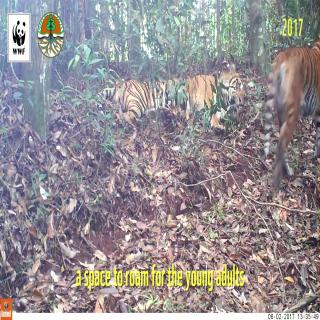Tiger: (91, 58, 248, 140), (261, 41, 320, 191)
